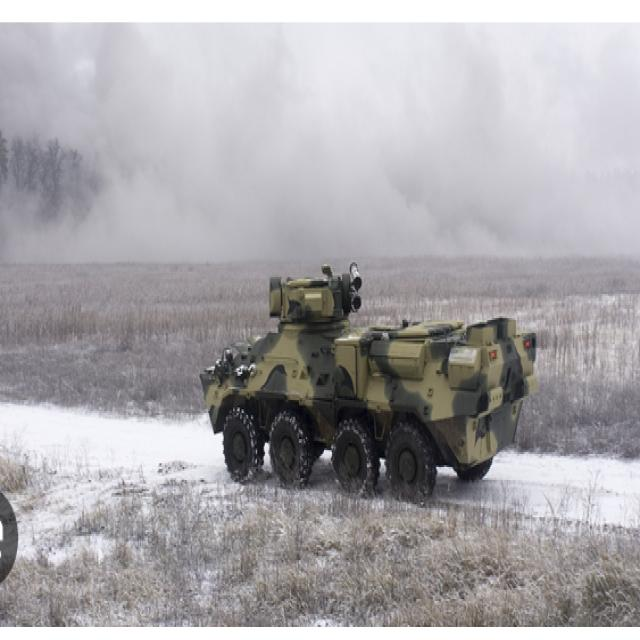MIL_APC: (194, 265, 540, 508)
